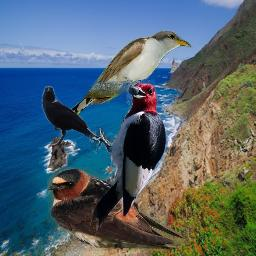Crow: (41, 86, 102, 146)
Cuckoo: (52, 29, 194, 131)
Swallow: (47, 167, 188, 251)
Woodpecker: (85, 73, 168, 235)
